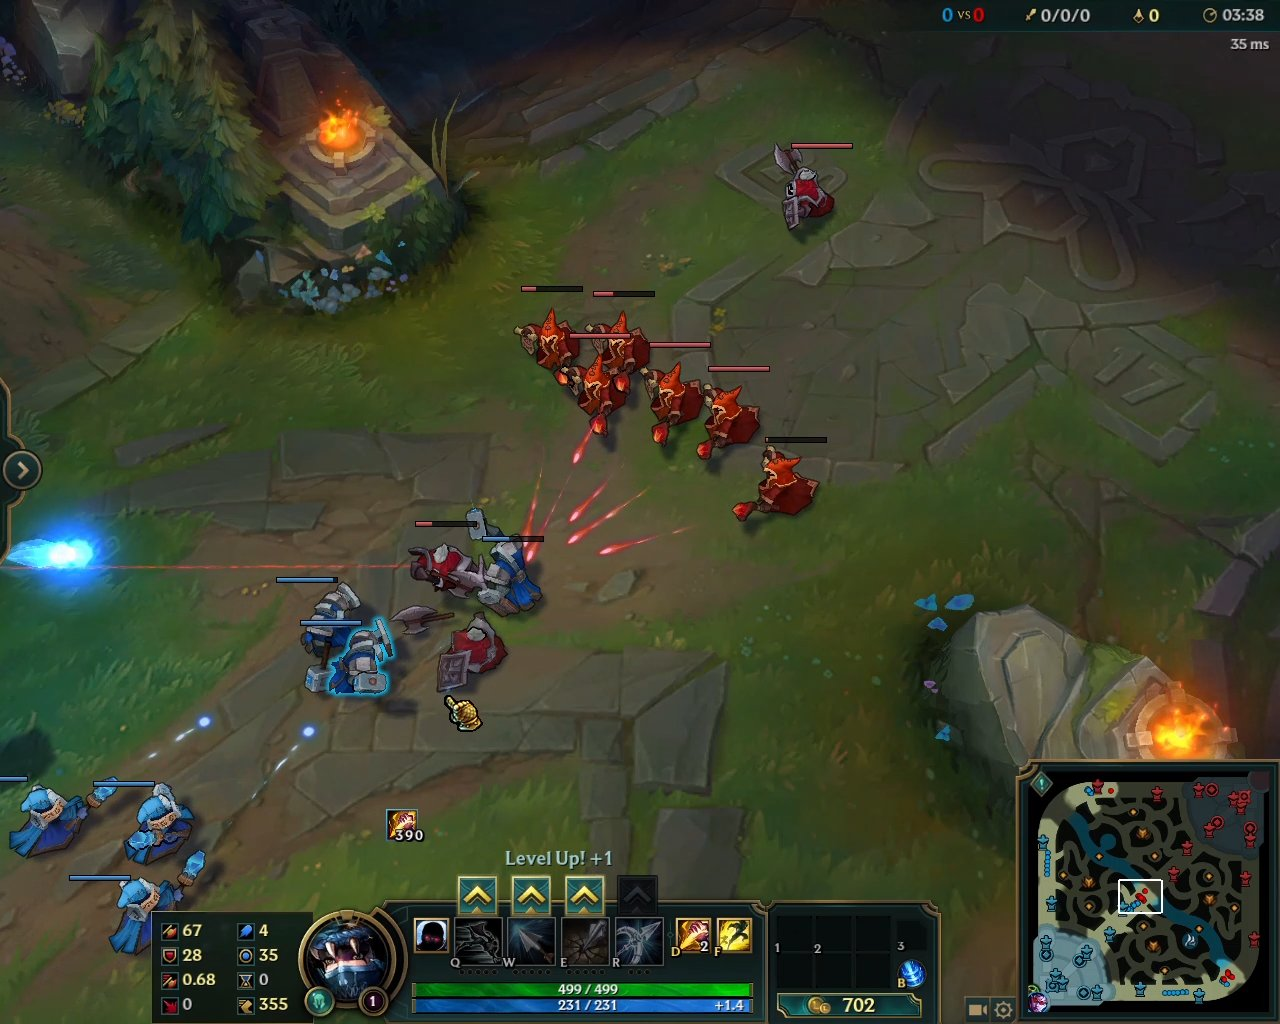EnemyMinion: (734, 436, 829, 521), (766, 144, 853, 230), (639, 343, 709, 447), (693, 366, 771, 459), (567, 332, 631, 442), (516, 285, 584, 382), (410, 521, 478, 601), (594, 290, 655, 364)
